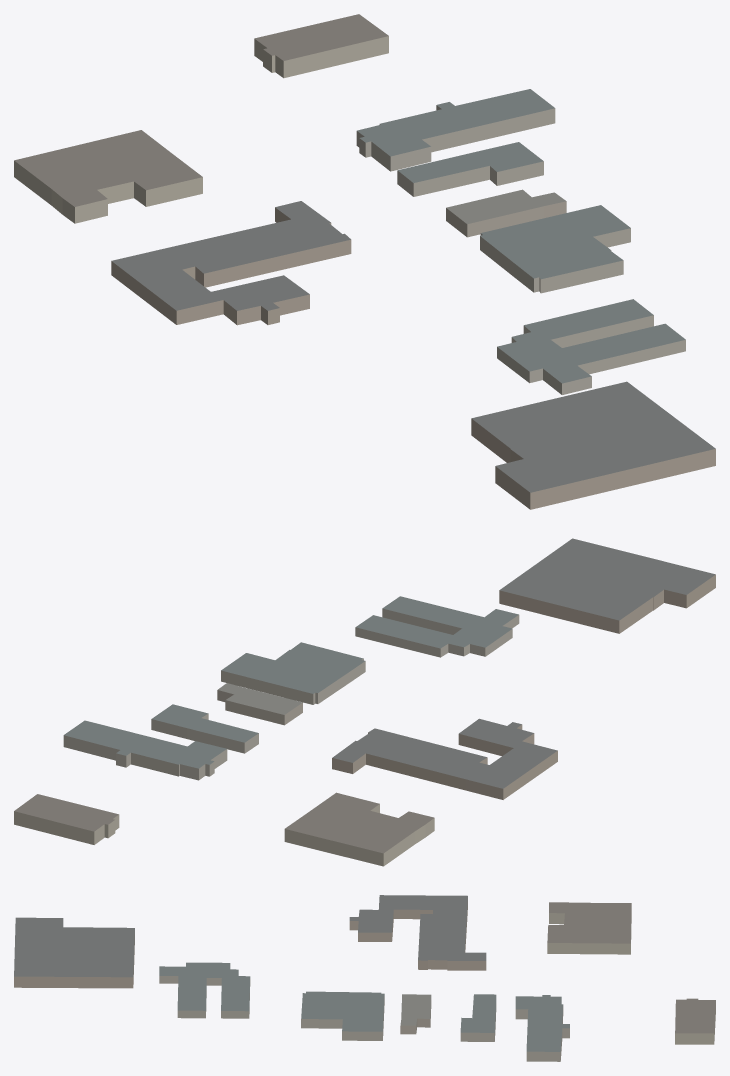
The model's file is d36f41d123da-chunk-1209_11838.glb.
3 views of the same model, one above another, from view 1: azimuth 30°, elevation 25°; view 2: azimuth 150°, elevation 25°; view 3: azimuth 270°, elevation 25° (orthographic). The views are drawn at different scales.
Visible parts, largest first — view 1: building_172475, building_82716, building_152912, building_90184, building_64002, building_89285, building_97709, building_38202, building_46234; view 2: building_172475, building_82716, building_152912, building_90184, building_64002, building_89285, building_97709, building_38202, building_46234; view 3: building_172475, building_82716, building_152912, building_90184, building_64002, building_89285, building_97709, building_38202, building_46234.
Boxes of the visible parts, <box> form: building_172475: <box>471,381,715,509</box>; building_82716: <box>111,201,351,325</box>; building_152912: <box>14,130,202,223</box>; building_90184: <box>497,299,685,394</box>; building_64002: <box>480,205,630,293</box>; building_89285: <box>356,89,555,171</box>; building_97709: <box>254,14,388,78</box>; building_38202: <box>397,142,543,196</box>; building_46234: <box>446,189,566,237</box>; building_172475: <box>499,538,715,633</box>; building_82716: <box>332,718,557,799</box>; building_152912: <box>284,792,434,866</box>; building_90184: <box>355,596,519,657</box>; building_64002: <box>221,642,365,704</box>; building_89285: <box>63,720,227,780</box>; building_97709: <box>14,794,119,844</box>; building_38202: <box>151,704,258,753</box>; building_46234: <box>217,683,302,725</box>; building_172475: <box>14,917,134,988</box>; building_82716: <box>349,895,486,970</box>; building_152912: <box>547,902,631,954</box>; building_90184: <box>159,962,250,1018</box>; building_64002: <box>301,991,384,1040</box>; building_89285: <box>515,995,569,1061</box>; building_97709: <box>675,998,715,1044</box>; building_38202: <box>460,994,496,1041</box>; building_46234: <box>400,994,431,1034</box>.
Size of the model in its own units: 201 by 6.72 by 379.
